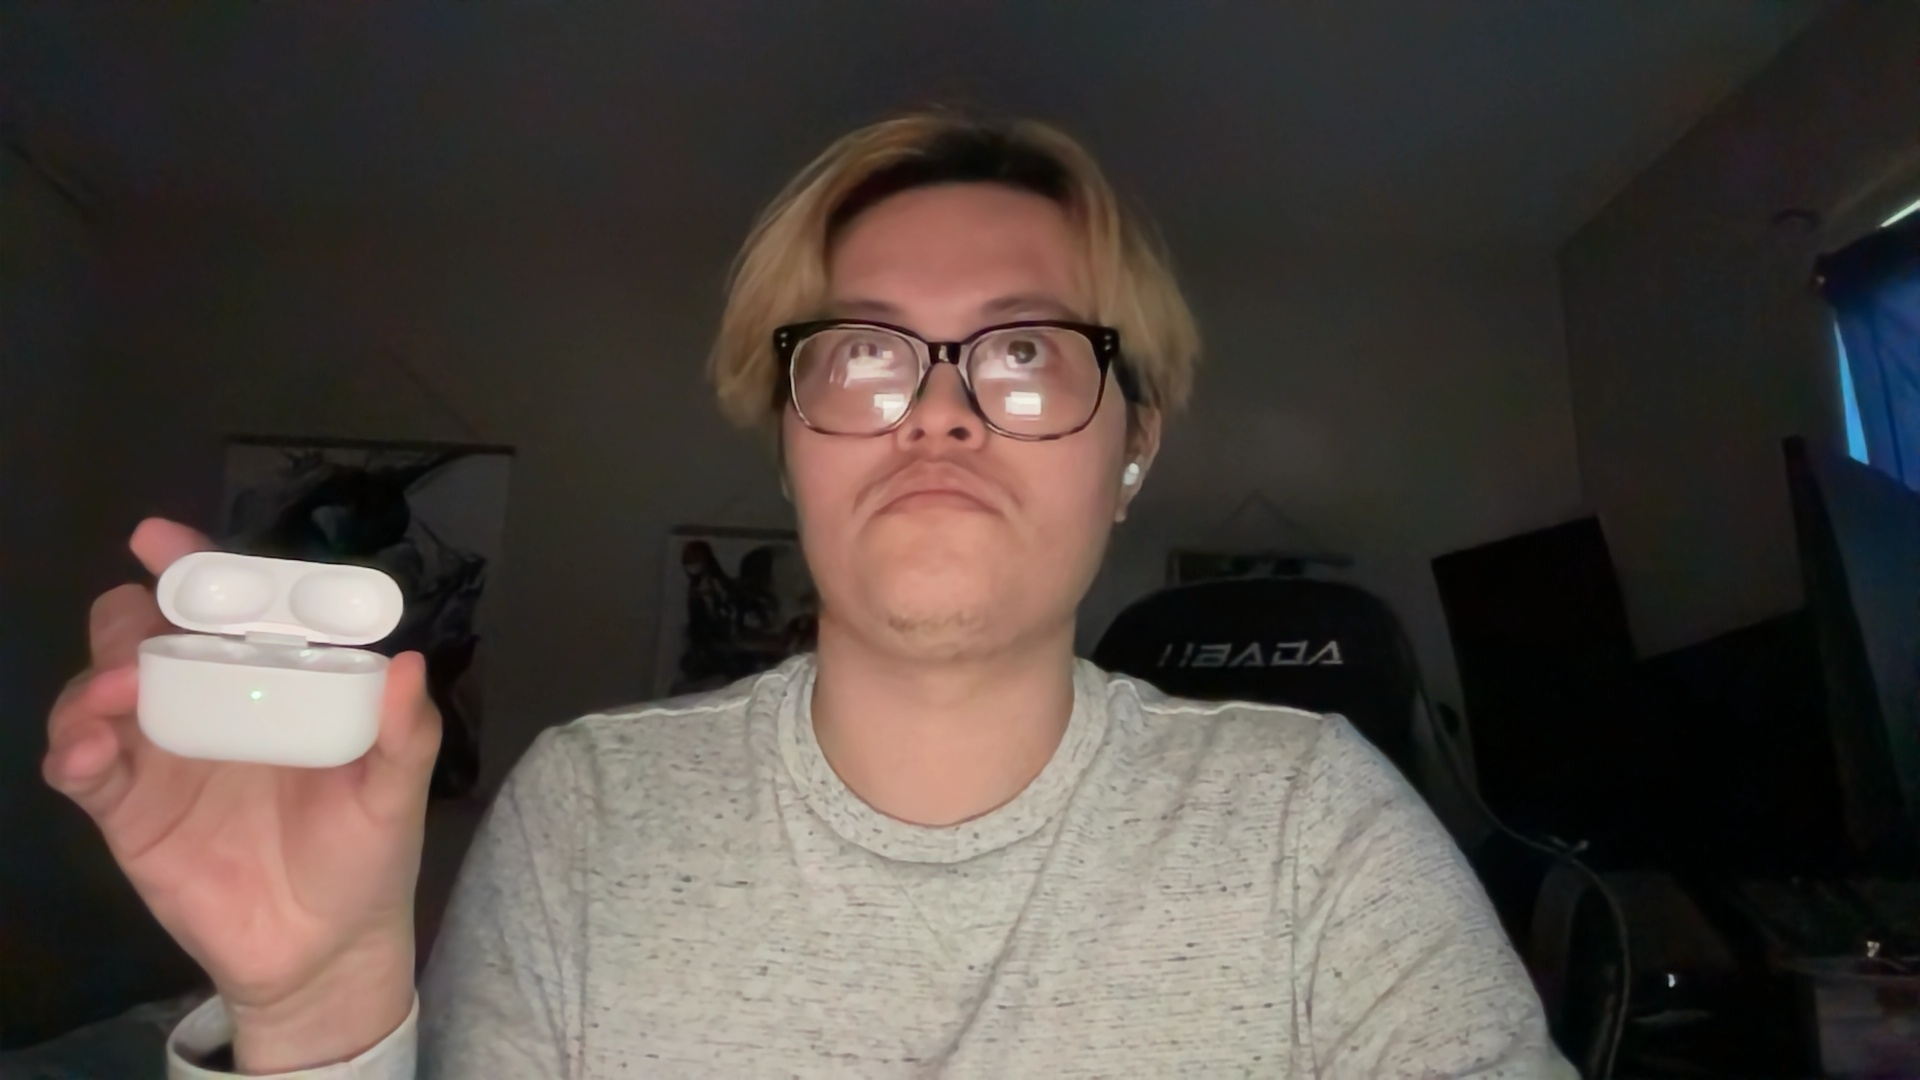airpods: (132, 534, 402, 766)
